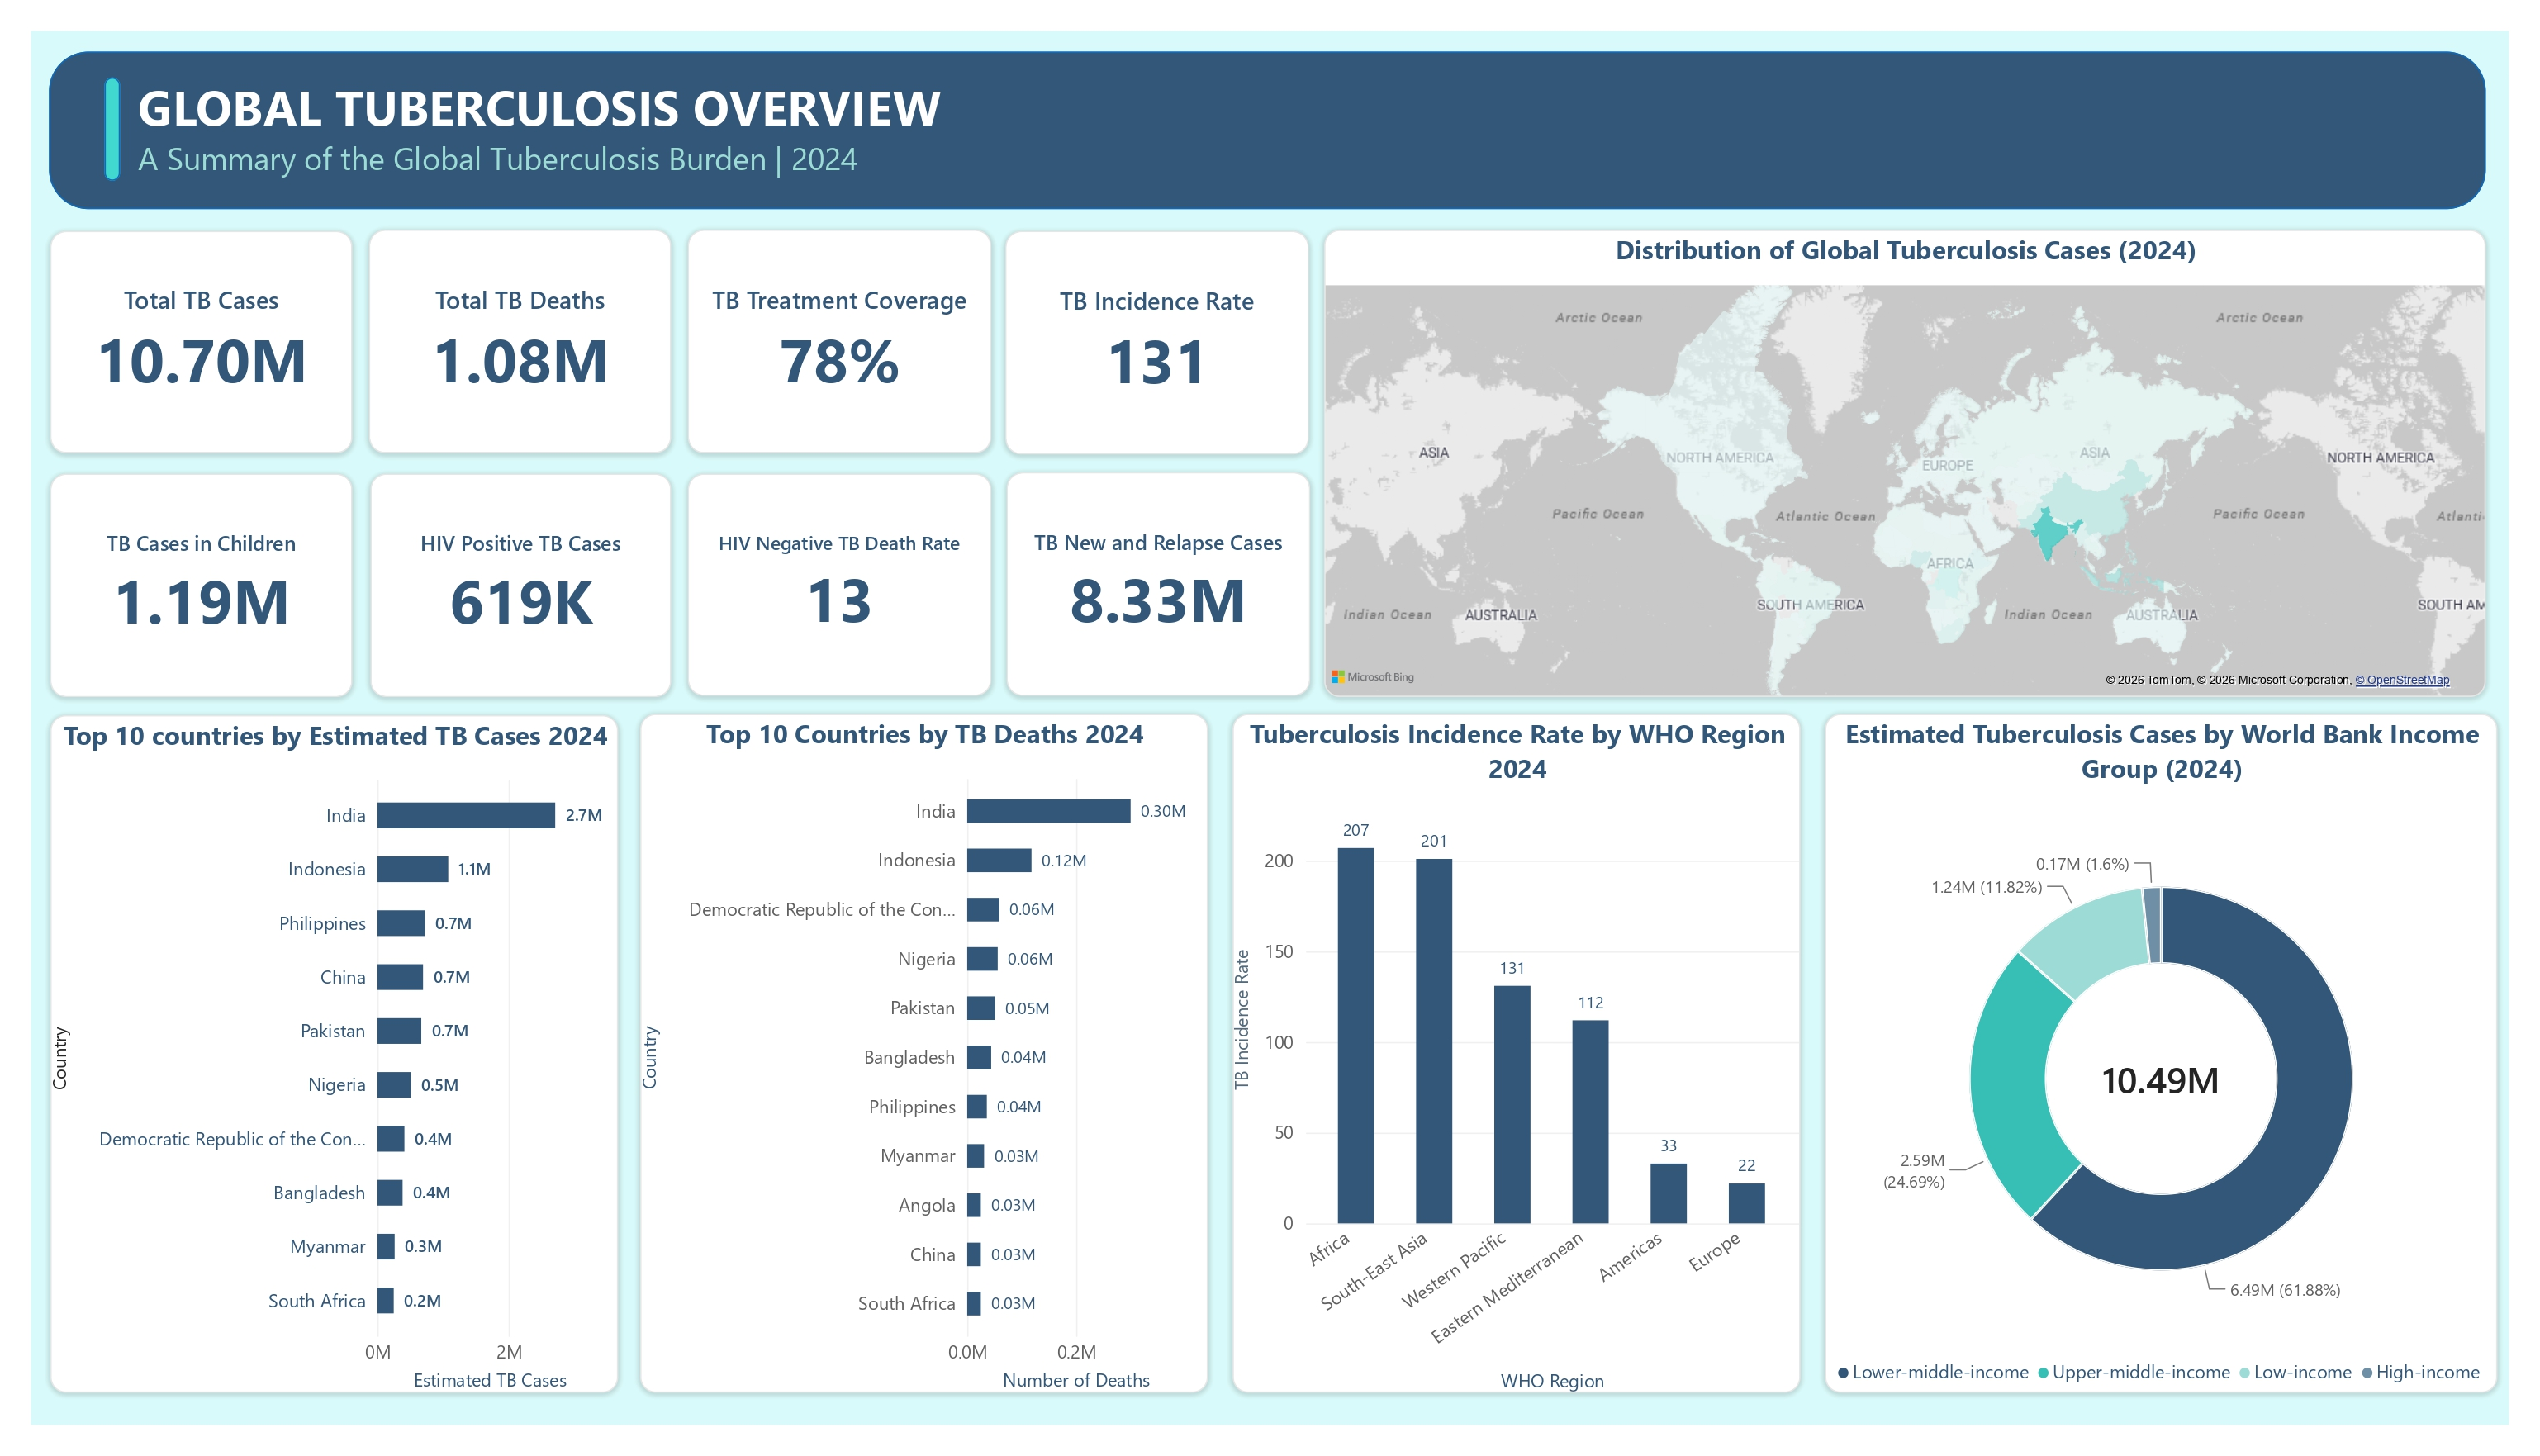

The page's visual inventory and layout, read from the dashboard file:
{"tool":"powerbi","page":{"name":"Global Tuberculosis Overview 2024","canvas":[1920,1080],"ordinal":0},"visuals":[{"type":"cardVisual","fields":{"Data":["TB_Master_Data.Total TB Cases"]},"box":[14.5,154.5,234.5,172.7],"z":0},{"type":"cardVisual","fields":{"Data":["TB_Master_Data.Total TB Deaths"]},"box":[262.2,154.1,233.7,172.4],"z":1000},{"type":"cardVisual","fields":{"Data":["TB_Master_Data.TB Treatment Coverage"]},"box":[509.2,154.1,234.7,172.4],"z":2000},{"type":"cardVisual","fields":{"Data":["TB_Master_Data.TB Incidence Rate"]},"box":[755.1,155.1,234.7,172.4],"z":3000},{"type":"cardVisual","fields":{"Data":["TB_Master_Data.TB Cases in Children"]},"box":[15,343.3,234.4,172.2],"z":4000},{"type":"clusteredBarChart","title":"Top 10 countries by Estimated TB Cases 2024","fields":{"Category":["TB_Master_Data.Spatial Dimension Values"],"Y":["Sum(TB_Master_Data.Numeric Value)"]},"box":[15,530,440,525],"z":5000},{"type":"donutChart","title":"Estimated Tuberculosis Cases by World Bank Income Group (2024)","fields":{"Category":["TB_Master_Data.Spatial Dimension Values"],"Y":["Sum(TB_Master_Data.Numeric Value)"]},"box":[1389.7,529.5,521,525.6],"z":6000},{"type":"clusteredColumnChart","title":"Tuberculosis Incidence Rate by WHO Region 2024","fields":{"Category":["TB_Master_Data.Spatial Dimension Values"],"Y":["Sum(TB_Master_Data.Numeric Value)"]},"box":[930.8,529.5,439.7,525.6],"z":7000},{"type":"cardVisual","fields":{"Data":["TB_Master_Data.HIV Positive TB Cases"]},"box":[262.5,343.3,233.3,172.2],"z":8000},{"type":"clusteredBarChart","title":"Top 10 Countries by TB Deaths 2024","fields":{"Category":["TB_Master_Data.Spatial Dimension Values"],"Y":["Sum(TB_Master_Data.Numeric Value)"]},"box":[471.8,529.5,439.7,525.6],"z":9000},{"type":"cardVisual","fields":{"Data":["TB_Master_Data.HIV Negative TB Death Rate"]},"box":[509.2,342.5,234.4,172.2],"z":10000},{"type":"cardVisual","fields":{"Data":["TB_Master_Data.TB New and Relapse Cases"]},"box":[756.4,342.3,234.4,172.2],"z":11000},{"type":"filledMap","title":"Distribution of Global Tuberculosis Cases (2024)","fields":{"Category":["TB_Master_Data.Spatial Dimension Values"]},"box":[1002,154,900,362],"z":12000},{"type":"textbox","box":[0,0,1598,116.3],"z":13000},{"type":"shape","box":[14,16,1888,122],"z":14000},{"type":"textbox","box":[1675,0,245,169],"z":15000},{"type":"textbox","box":[82.5,32.5,1067.5,83.8],"z":16000},{"type":"shape","box":[57.1,35.8,12.1,80.4],"z":17000}]}

Visuals, with their boxes on the page's 1920x1080 design canvas (x1, y1, x2, y2). These are canvas units, not pixel positions in the 2540x1456 screenshot, which may show the page scaled, cropped or inside an application window:
cardVisual - TB_Master_Data.Total TB Cases: 14:154:249:327
cardVisual - TB_Master_Data.Total TB Deaths: 262:154:496:326
cardVisual - TB_Master_Data.TB Treatment Coverage: 509:154:744:326
cardVisual - TB_Master_Data.TB Incidence Rate: 755:155:990:328
cardVisual - TB_Master_Data.TB Cases in Children: 15:343:249:516
"Top 10 countries by Estimated TB Cases 2024" clusteredBarChart: 15:530:455:1055
"Estimated Tuberculosis Cases by World Bank Income Group (2024)" donutChart: 1390:530:1911:1055
"Tuberculosis Incidence Rate by WHO Region 2024" clusteredColumnChart: 931:530:1370:1055
cardVisual - TB_Master_Data.HIV Positive TB Cases: 262:343:496:516
"Top 10 Countries by TB Deaths 2024" clusteredBarChart: 472:530:912:1055
cardVisual - TB_Master_Data.HIV Negative TB Death Rate: 509:342:744:515
cardVisual - TB_Master_Data.TB New and Relapse Cases: 756:342:991:514
"Distribution of Global Tuberculosis Cases (2024)" filledMap: 1002:154:1902:516
textbox: 0:0:1598:116
shape: 14:16:1902:138
textbox: 1675:0:1920:169
textbox: 82:32:1150:116
shape: 57:36:69:116
